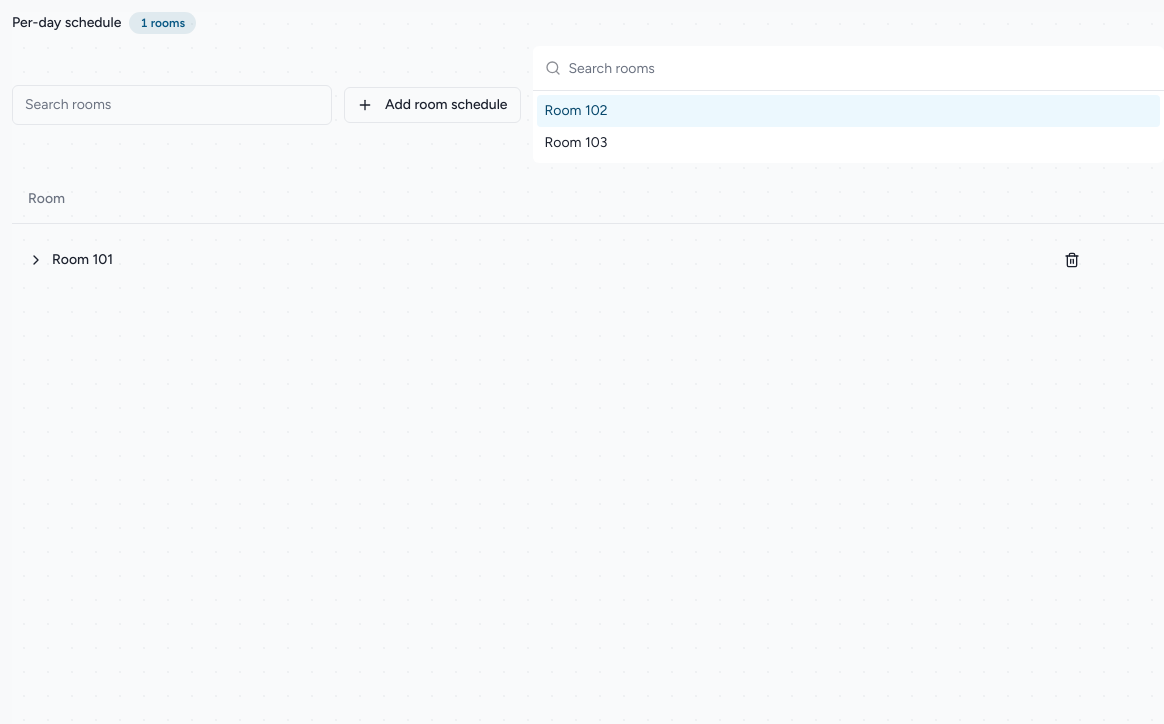
Test: WeeklyScheduleField › toggling a day off removes all of that day's windows
Click the button with aria-label "Expand Room 101": (71, 260) [28,250,113,270]
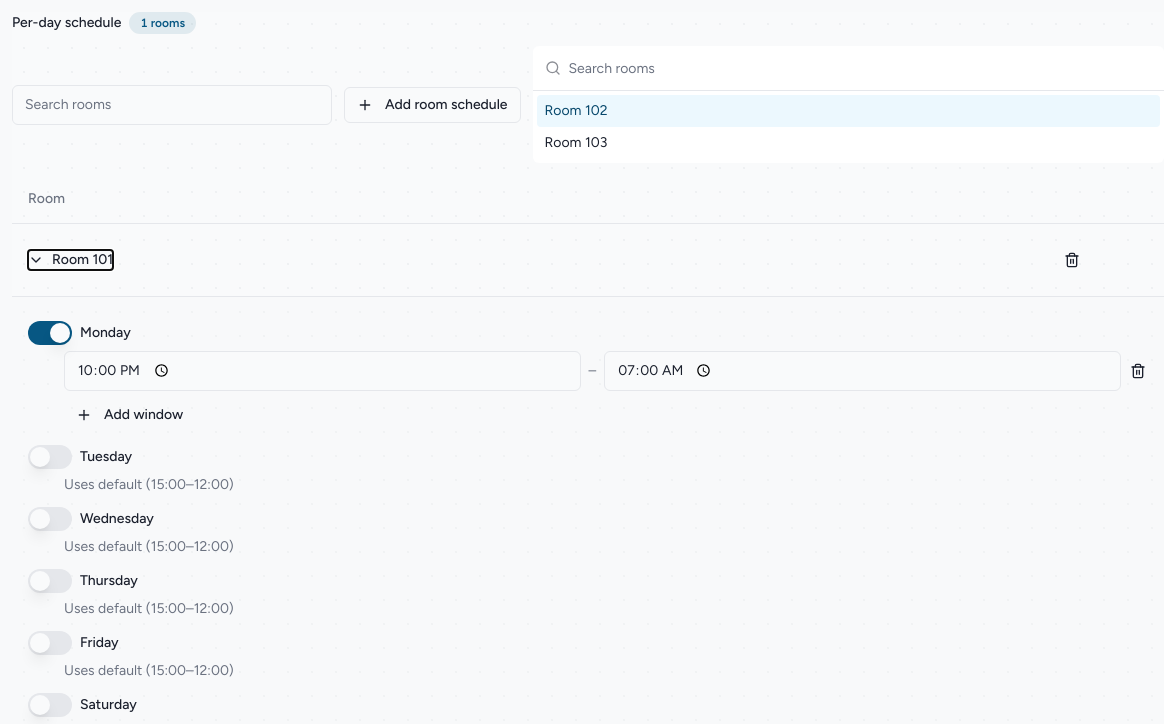
Click the switch named "Monday — Room 101": (50, 332) [28,320,72,344]
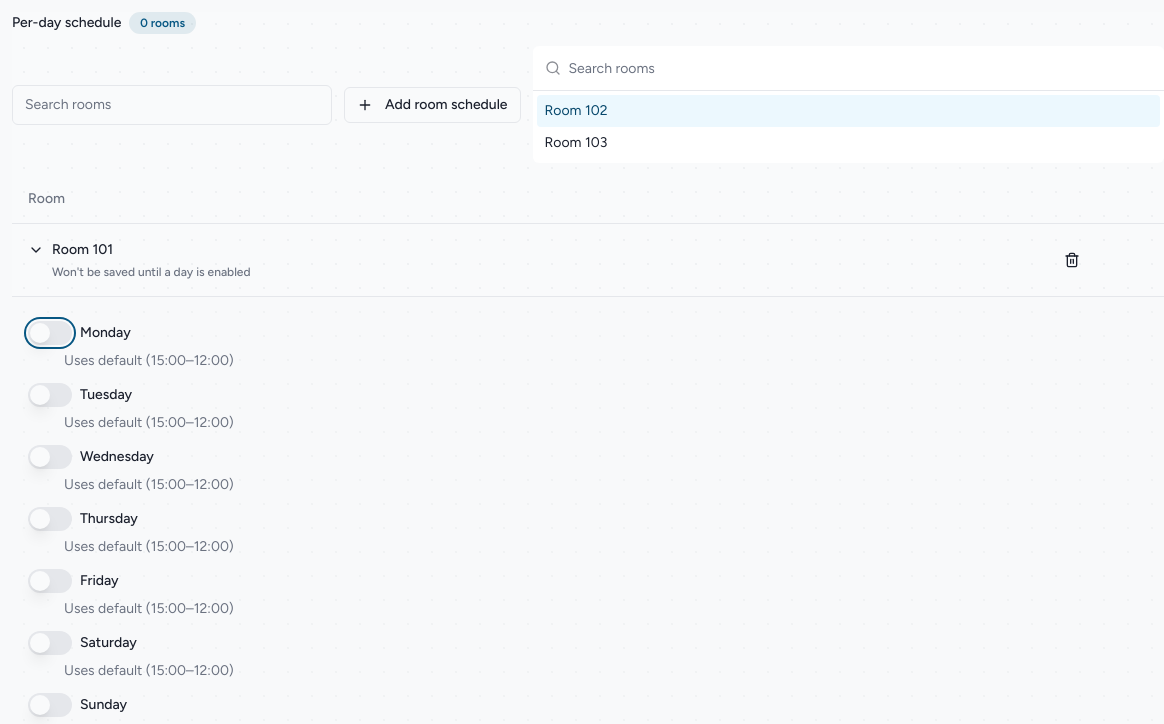
expect the text "Uses default (15:00–12:00)" is shown 7 times: met
